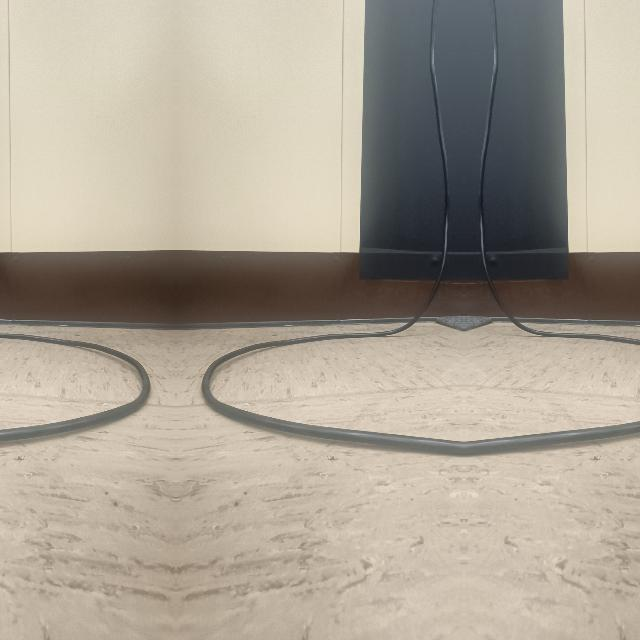obstacle: (204, 320, 463, 456), (463, 320, 640, 455), (0, 320, 145, 455)
